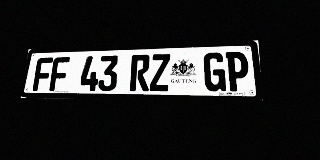3: (98, 55, 118, 91)
4: (79, 56, 100, 91)
F: (32, 57, 53, 91), (49, 57, 70, 91)
G: (204, 52, 226, 91)
P: (225, 51, 250, 91)
R: (129, 54, 150, 91)
Z: (149, 54, 170, 91)
